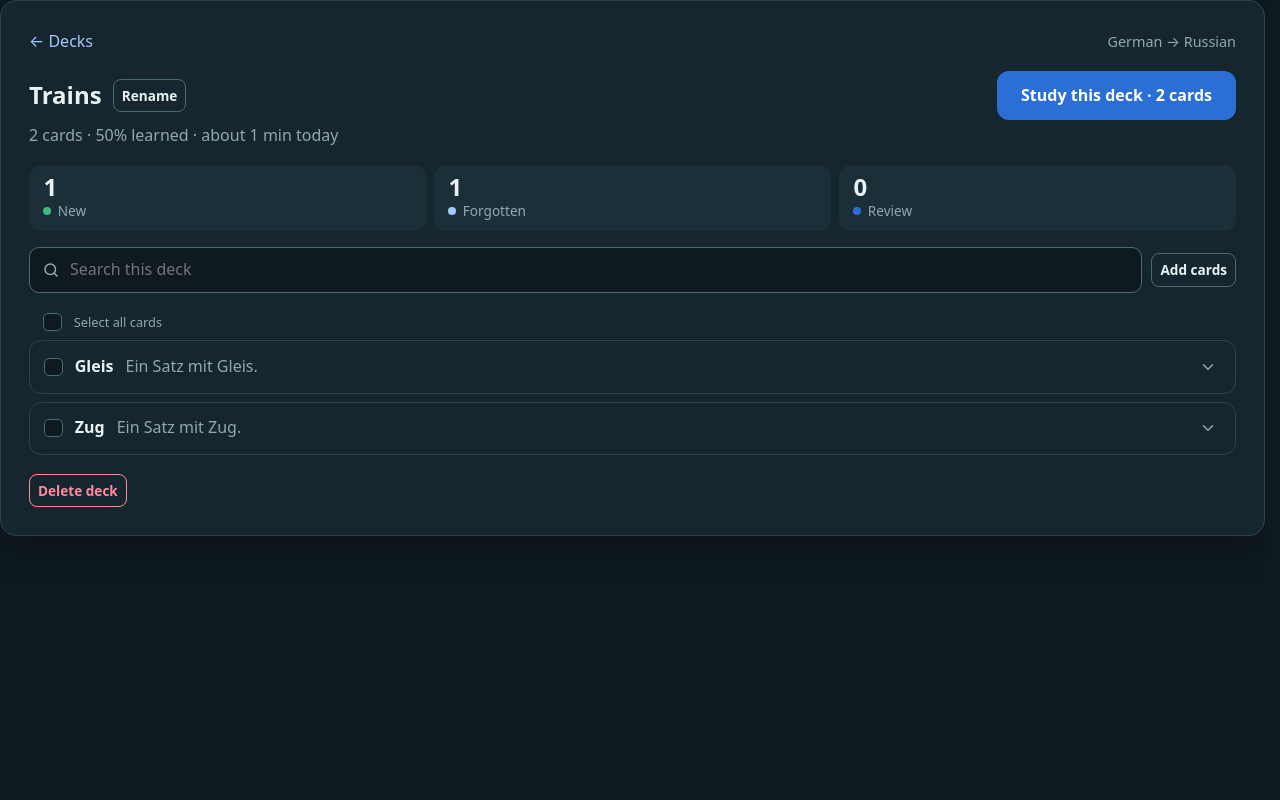
Test case: when the product refuses to delete, the box stays open with the reason and the learner stays on the deck
What coordinates should you click on to do the following:
click the button "Delete deck"
I would click on:
 (78, 490)
Its box is [29, 474, 127, 507].
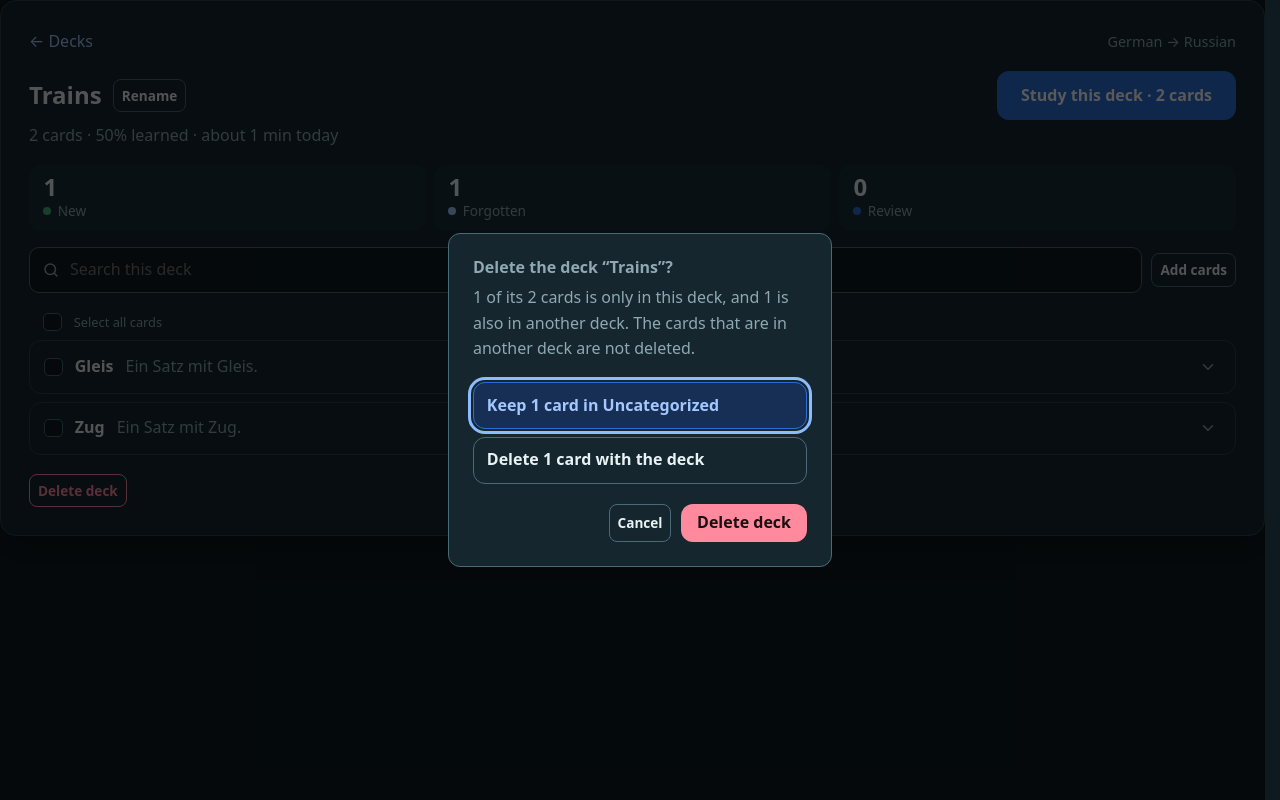
What coordinates should you click on to do the following:
click the submit button
I would click on:
 (744, 523)
Its box is [681, 504, 807, 542].
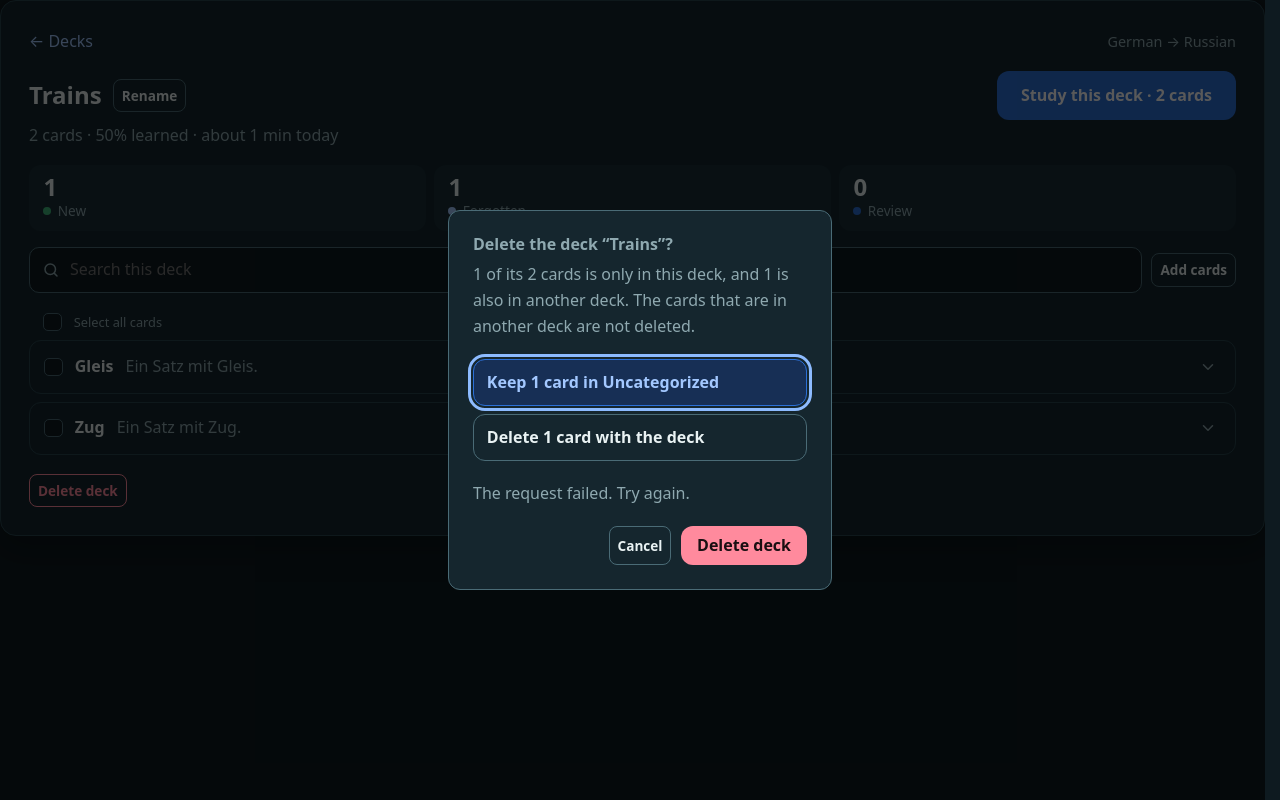
Expected: the message "The request failed. Try again." is shown, [473, 482, 690, 504]
